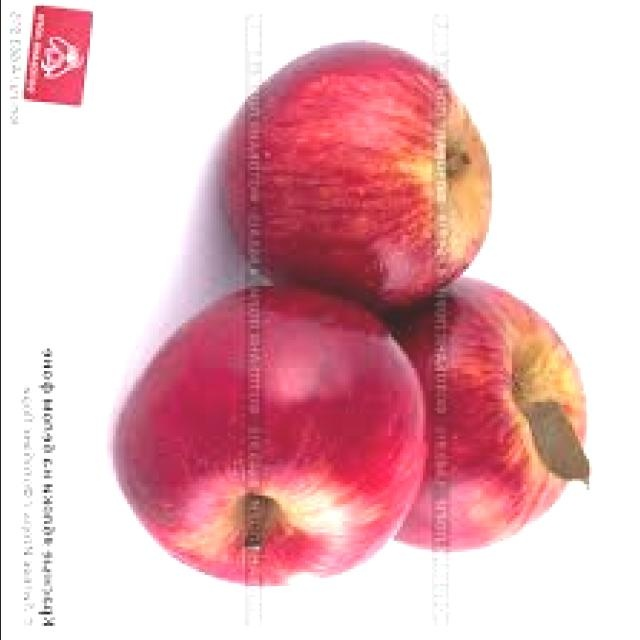agrume: (128, 248, 448, 634), (209, 32, 553, 338), (310, 249, 602, 587)
